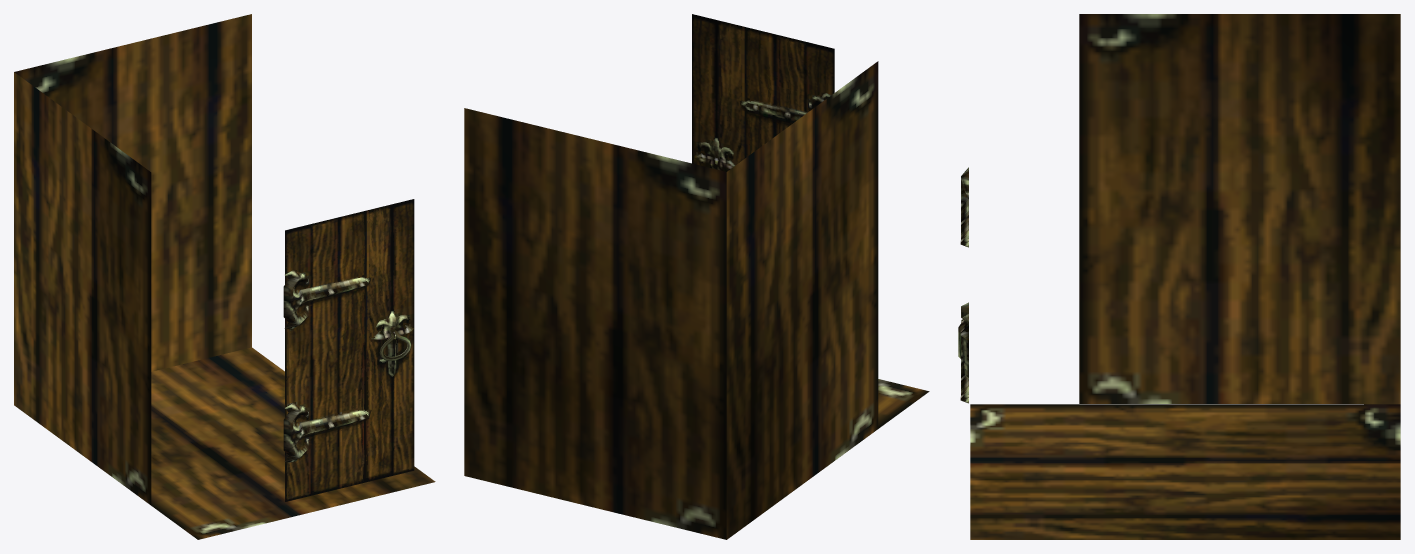
The model's file is CH08_CIN08_DOOR.fbx.
3 renders of one model, left to right at view 1: azimuth 30°, elevation 25°; view 2: azimuth 150°, elevation 25°; view 3: azimuth 270°, elevation 25°, orthographic. The views are drawn at different scales.
Parts seen in each view (by area): view 1: CH08_CIN08_DOOR; view 2: CH08_CIN08_DOOR; view 3: CH08_CIN08_DOOR.
Part boxes in pixels (x1,y1,x2,y2): CH08_CIN08_DOOR: [14, 14, 435, 539]; CH08_CIN08_DOOR: [464, 14, 929, 539]; CH08_CIN08_DOOR: [958, 14, 1400, 539].
Size of the model in its own units: 20985 by 28114 by 28883.
1 material, 1 textured.
